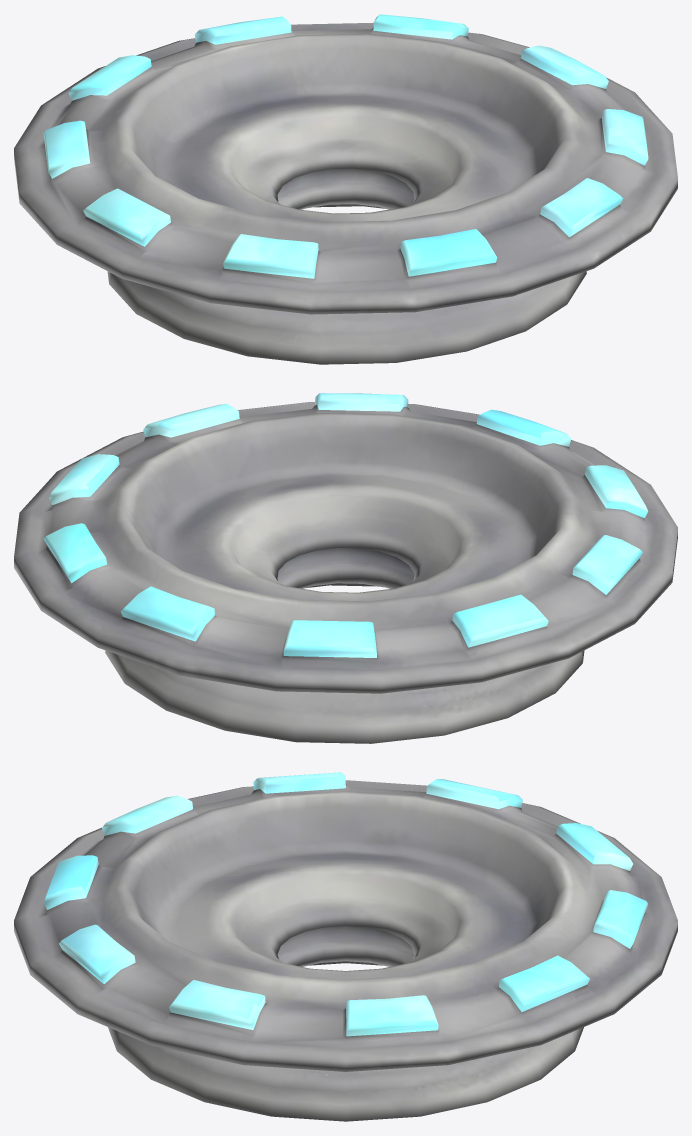
Rendered from hologram_projector.glb.
3 renders of one model, top to bottom at view 1: azimuth 30°, elevation 25°; view 2: azimuth 150°, elevation 25°; view 3: azimuth 270°, elevation 25°, orthographic.
Parts seen in each view (by area): view 1: pTorus1; view 2: pTorus1; view 3: pTorus1.
Part boxes in pixels (x1,y1,x2,y2): pTorus1: (14,14,677,364); pTorus1: (14,393,677,743); pTorus1: (14,772,677,1121).
Bounding box in the file's own units: 1.39 × 0.3367 × 1.39.
2 materials, 2 textured.
